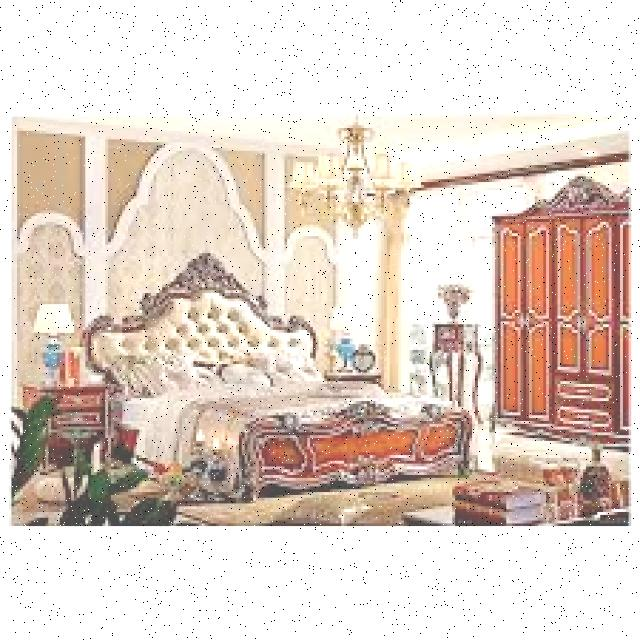bed: (97, 327, 471, 490)
